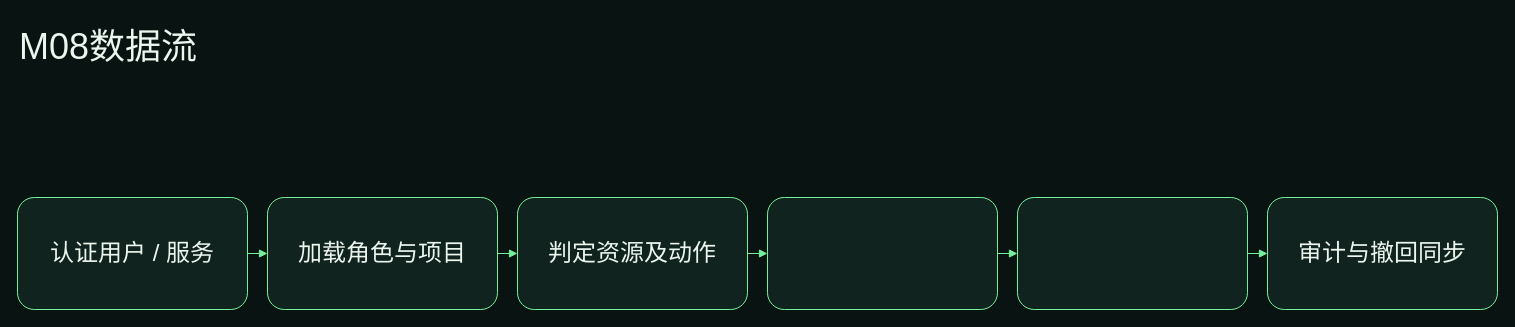
Some shapes in this 1515 by 327 pixel diagram are drawn without their labels. Here are the shapes that lost their labels. From the top down, the centre of each, then its label:
the point at 882,253: 执行受限操作
the point at 1132,253: 返回前再检查
